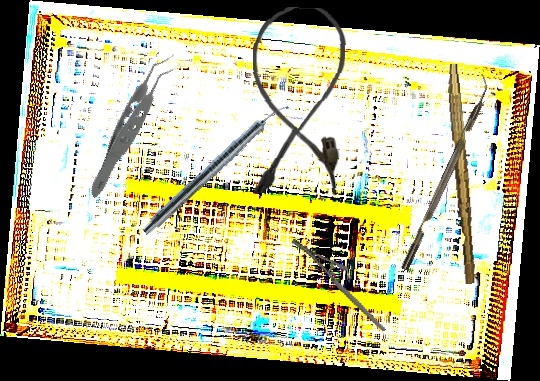Cannula: (248, 5, 347, 197)
Chopper: (391, 73, 497, 271)
Handpiece: (139, 97, 292, 240)
Needle Holder: (290, 220, 386, 351)
Scalpel Handle: (441, 63, 481, 285)
Tissue Forceps: (51, 52, 218, 200)
